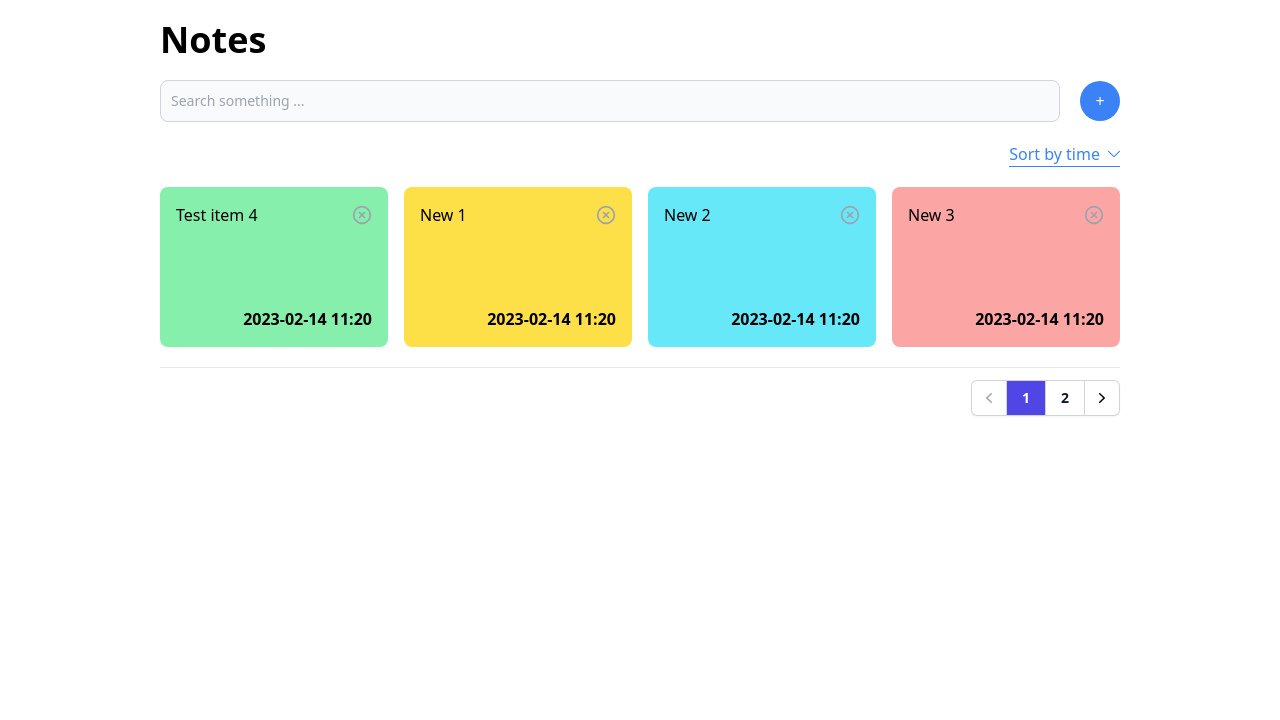
Test case: HomePage › adds a new note when the "Add Note" button is clicked in the modal
Click the element showing "+" at (1100, 101), box [1080, 81, 1120, 121]
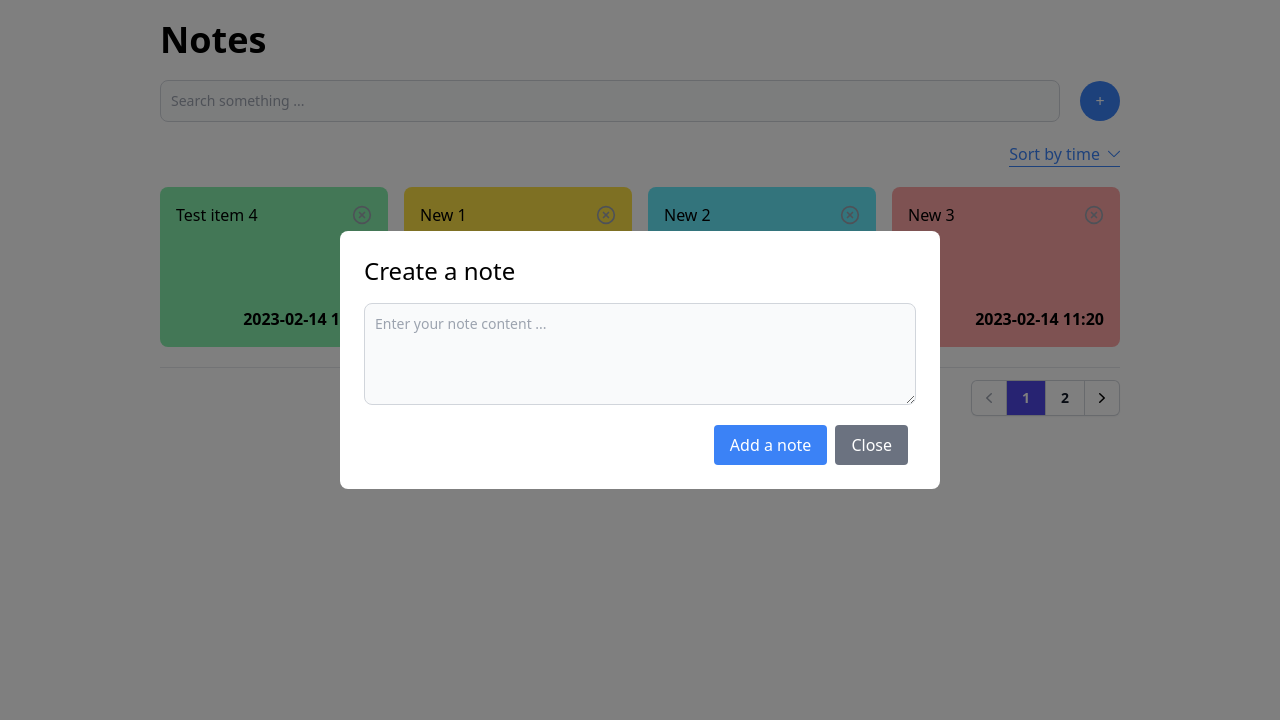
Type "Mock testing" into the text box with id "newNote" at (640, 354), box [364, 303, 916, 405]
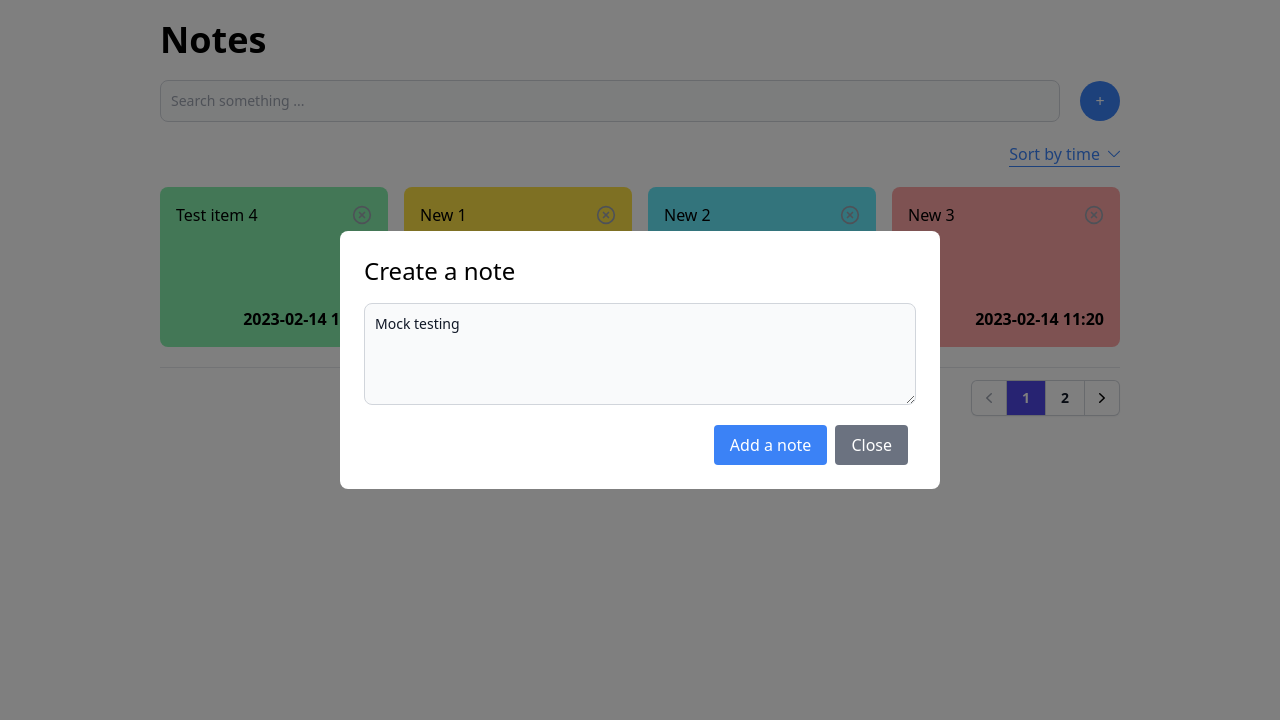
Click the button with id "addNoteBtn" at (771, 445), box [714, 425, 827, 465]
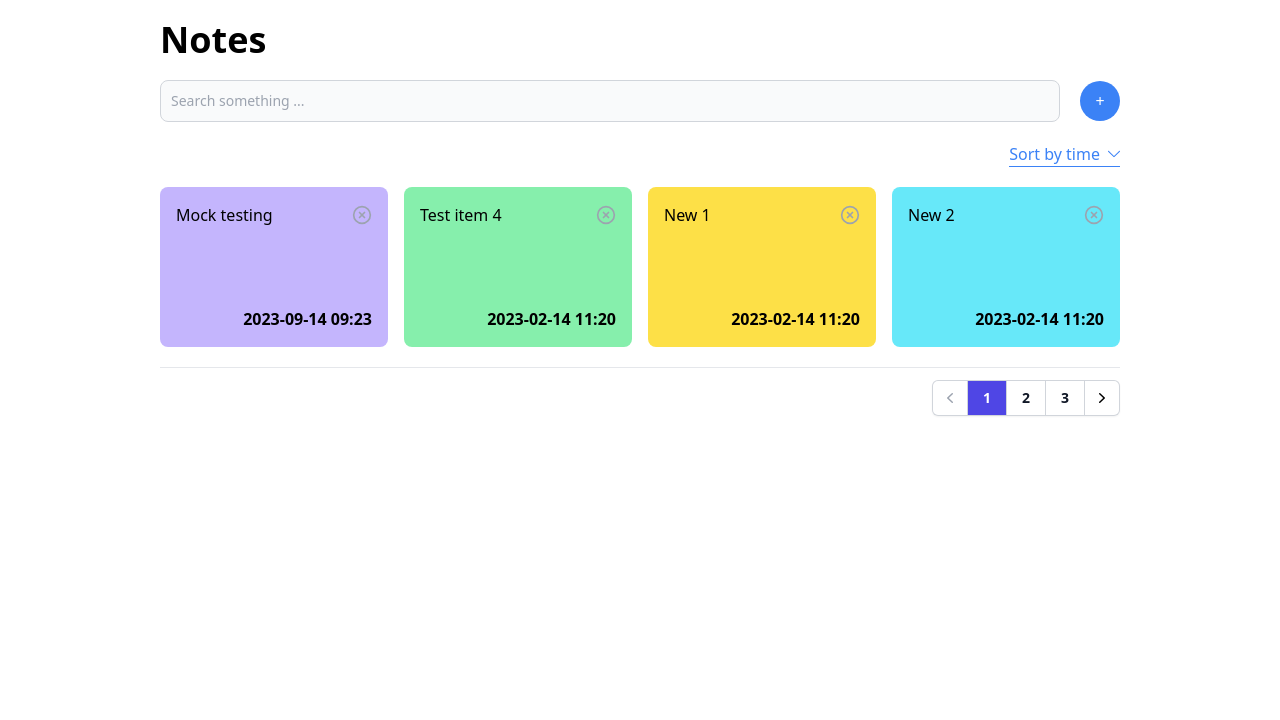
Expected: the text "Mock testing" is shown, [176, 203, 273, 227]
